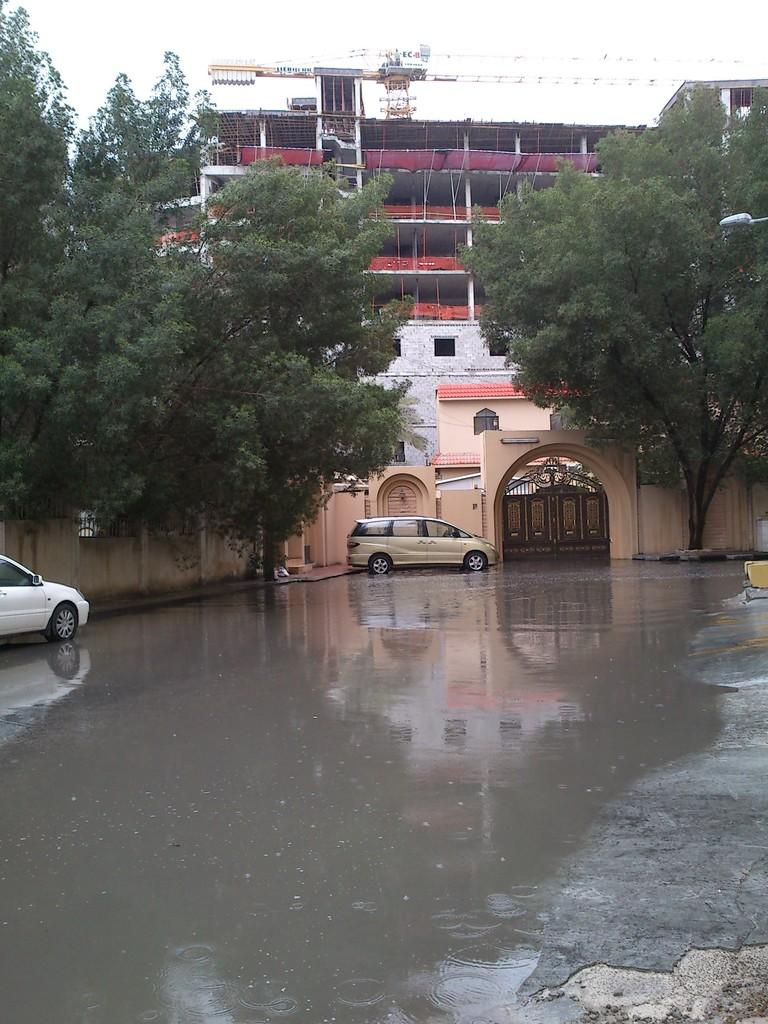vehicle: (0, 549, 90, 667), (348, 515, 499, 576)
